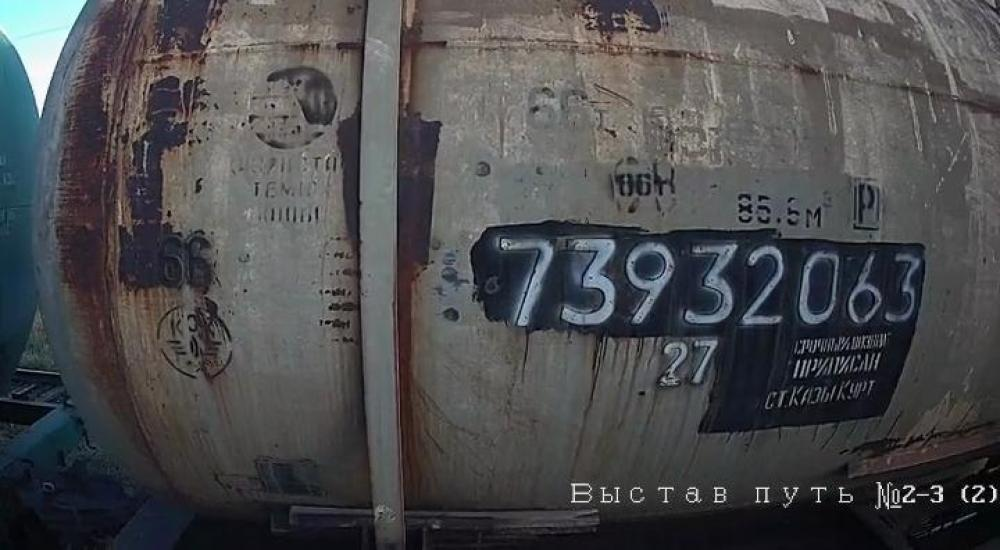Wagon-number: (491, 234, 922, 332)
